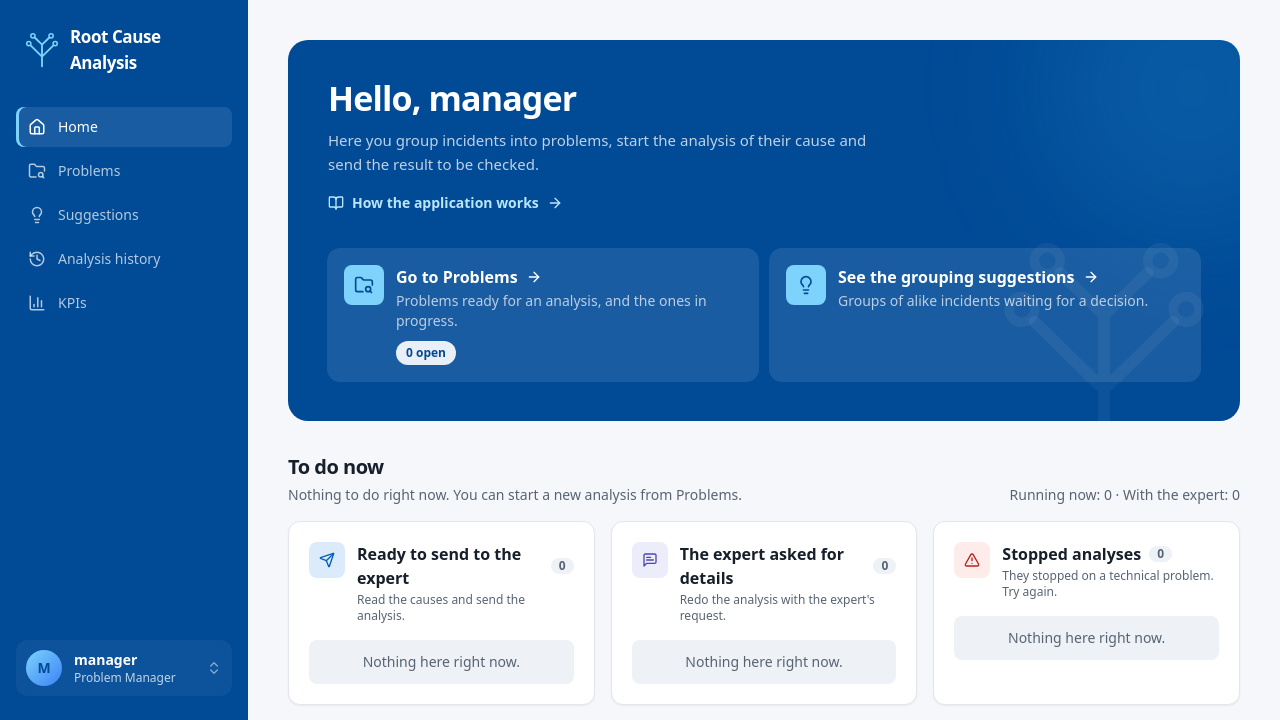
Test: shell and guards › keeps Home to the actions and opens how the application works from it
Click the link "How the application works" at (445, 203), box [328,193,563,213]
(page scrolled)
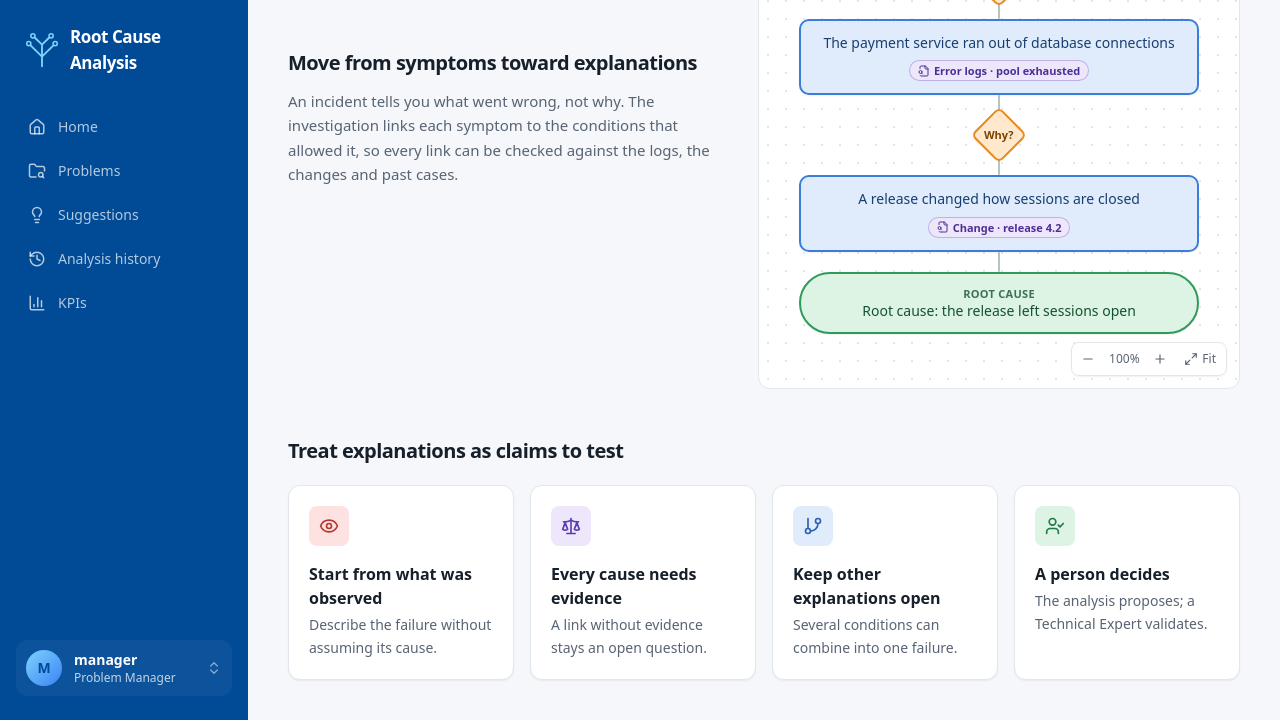
Check: the heading "Treat explanations as claims to test" is shown, box [288,437,624,464]
